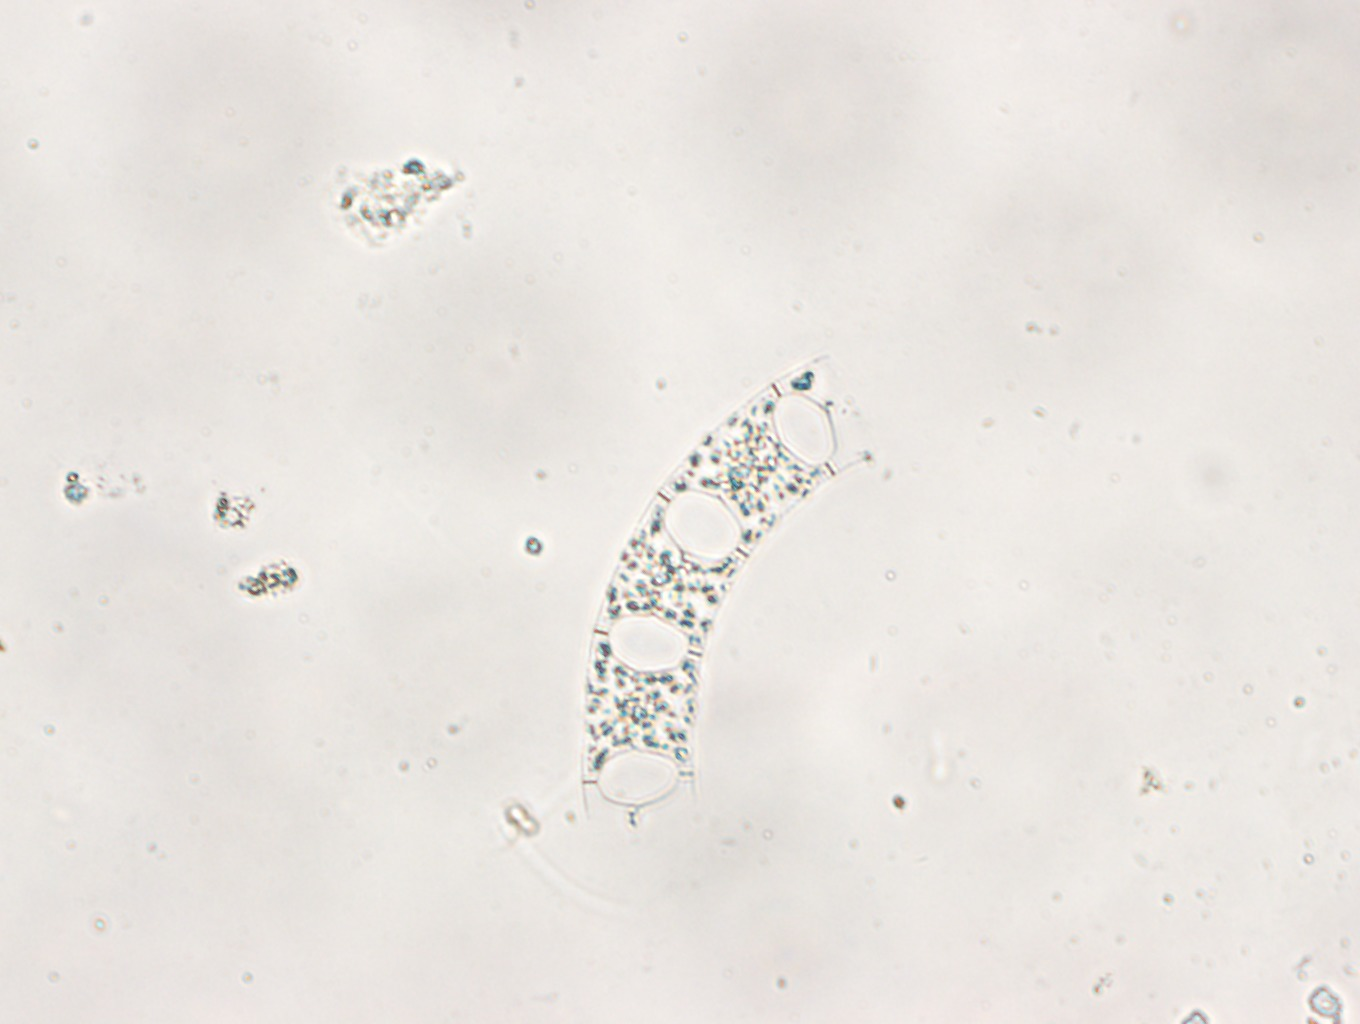eucampia: (582, 356, 877, 823)
